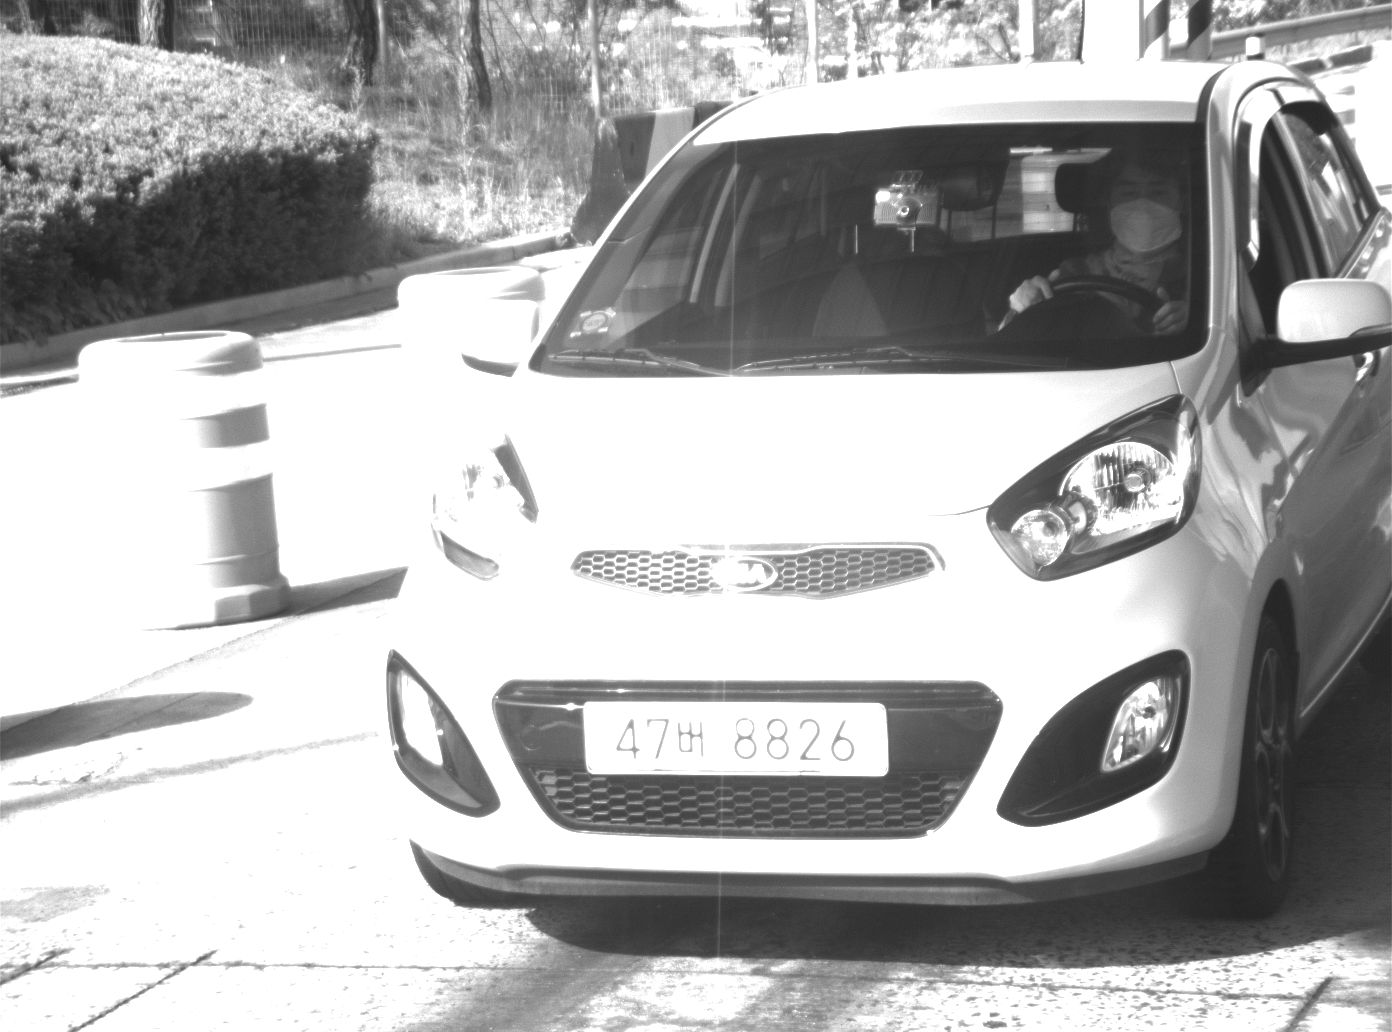car: (379, 59, 1392, 922)
plate: (583, 698, 886, 777)
